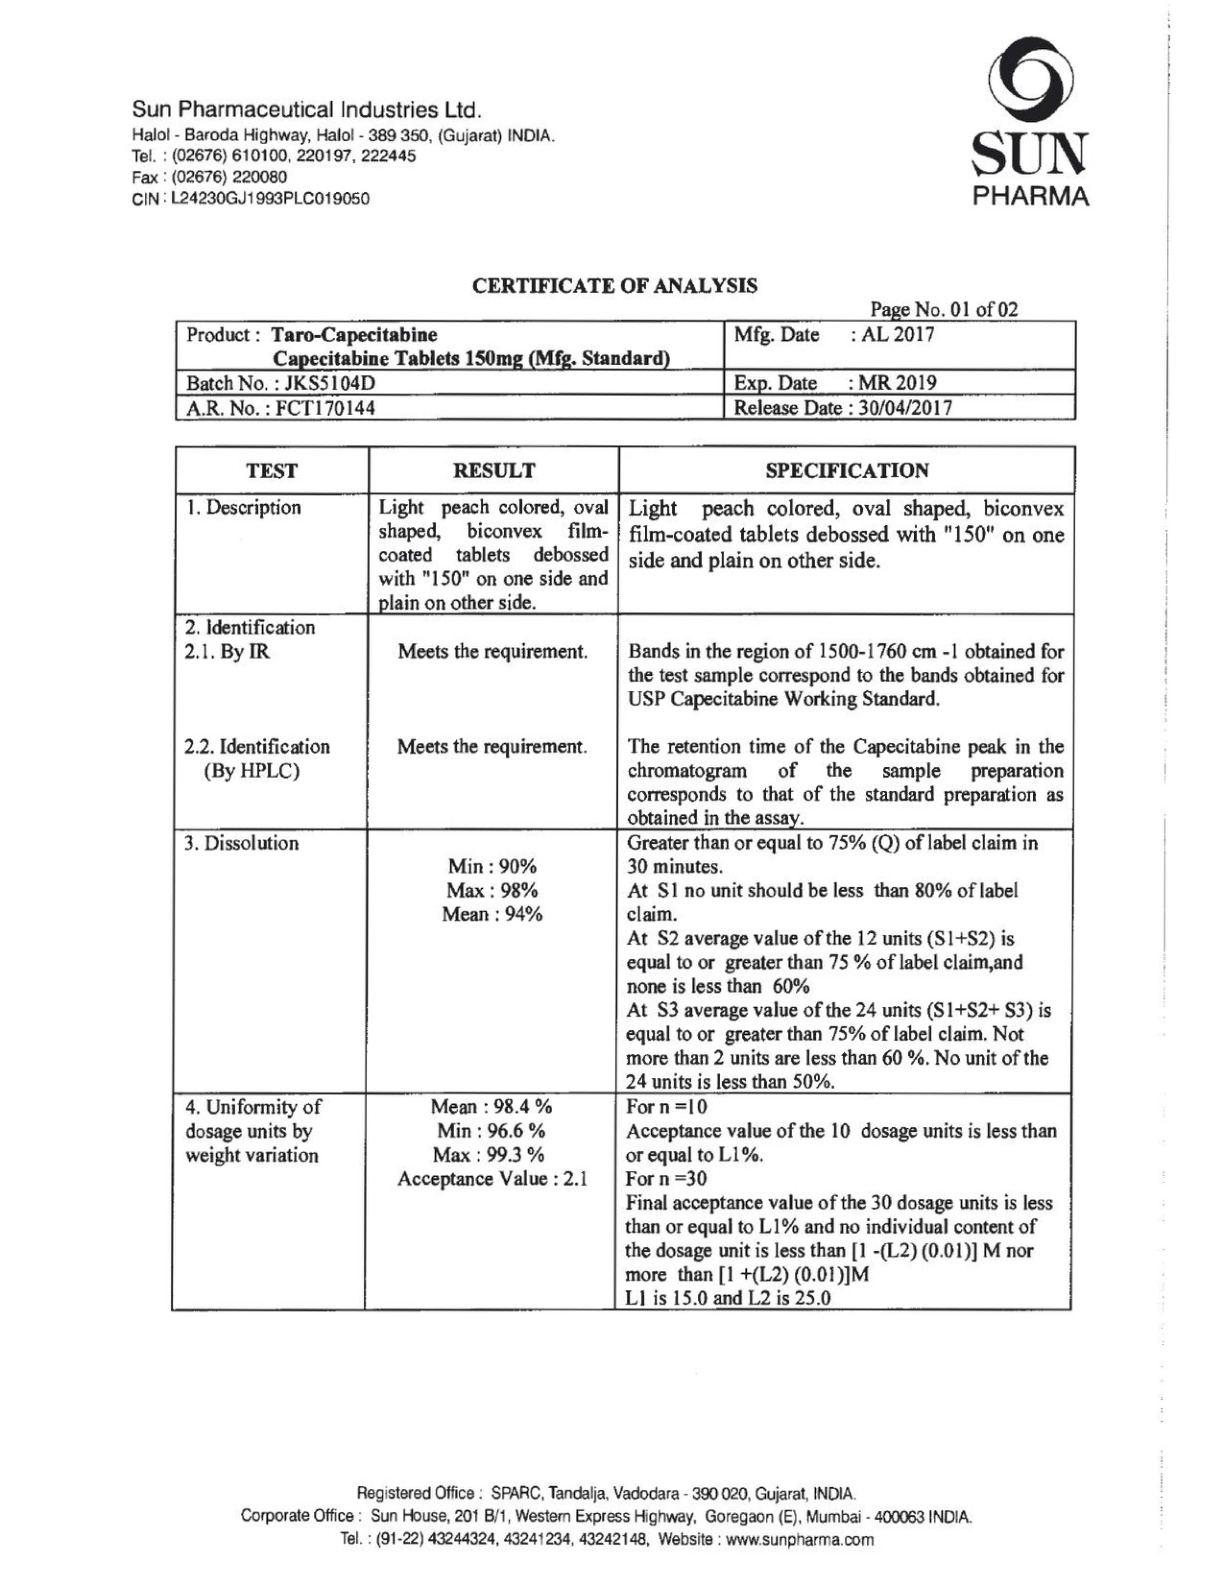full_lined: (170, 443, 1076, 1312), (174, 319, 1077, 422)
